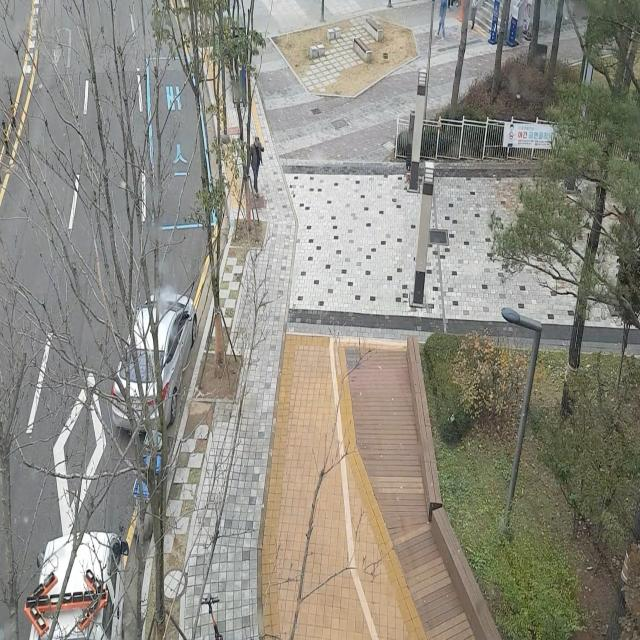Car: (100, 267, 209, 447)
Truck: (11, 514, 138, 640)
